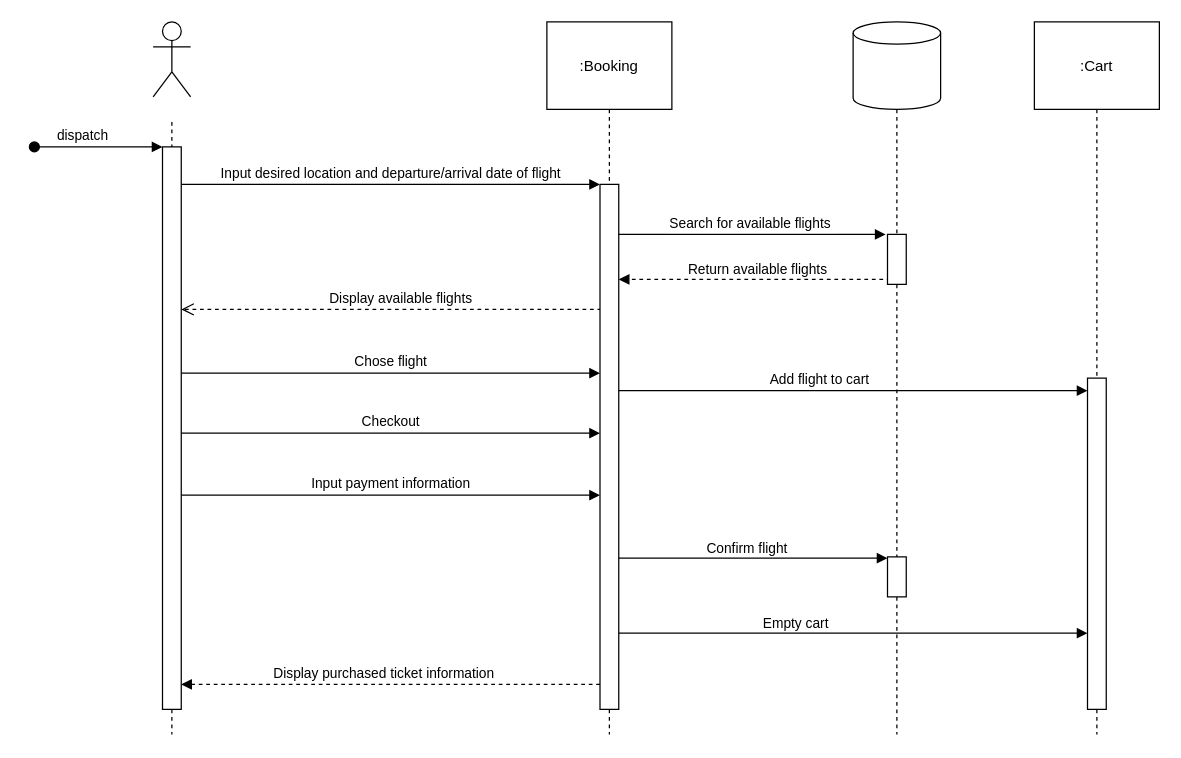
The diagram is 1181 pixels wide and 758 high, and some of its shapes have lost their labels. Each missing label, with the centre of its shape:
"Customer" goes at point (171, 59).
"Flights DB" goes at point (896, 65).
